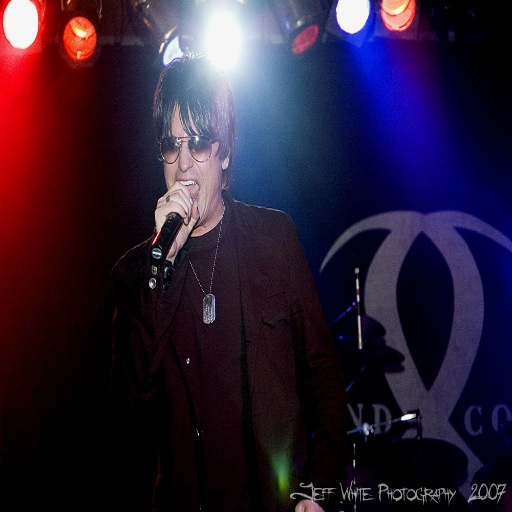hand: (146, 199, 189, 267), (294, 498, 324, 510)
